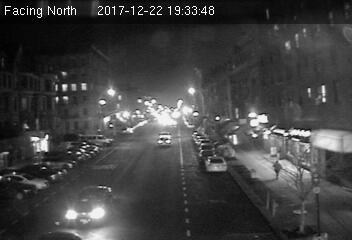car: (65, 186, 113, 225), (203, 155, 228, 175), (155, 137, 173, 146)
pedestrian: (270, 159, 282, 183)
